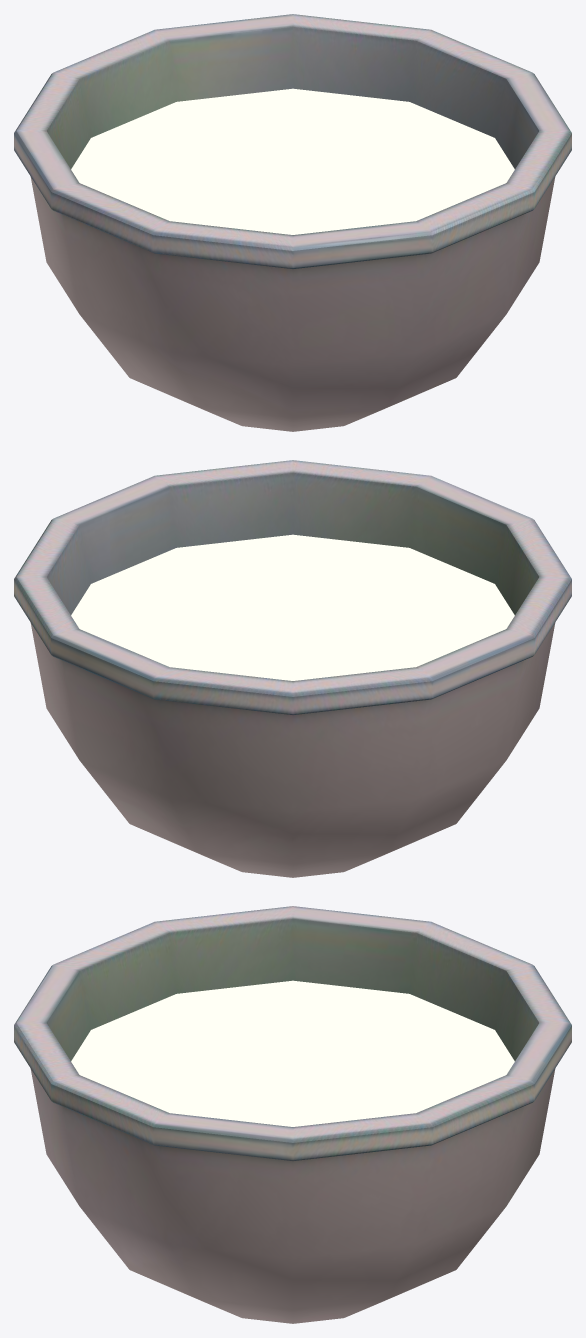
File: mixingBowlFolded.gltf
3 renders of one model, top to bottom at view 1: azimuth 30°, elevation 25°; view 2: azimuth 150°, elevation 25°; view 3: azimuth 270°, elevation 25°, orthographic.
Parts seen in each view (by area): view 1: MixingBowl, Cylinder; view 2: MixingBowl, Cylinder; view 3: MixingBowl, Cylinder.
Boxes of the visible parts, bbox=[...] form: MixingBowl: bbox=[14, 14, 571, 431]; Cylinder: bbox=[71, 88, 514, 234]; MixingBowl: bbox=[14, 460, 571, 877]; Cylinder: bbox=[71, 534, 514, 680]; MixingBowl: bbox=[14, 906, 571, 1323]; Cylinder: bbox=[71, 980, 514, 1126].
Bounding box in the file's own units: 0.3931 × 0.2142 × 0.3931.
2 materials, 2 textured.
